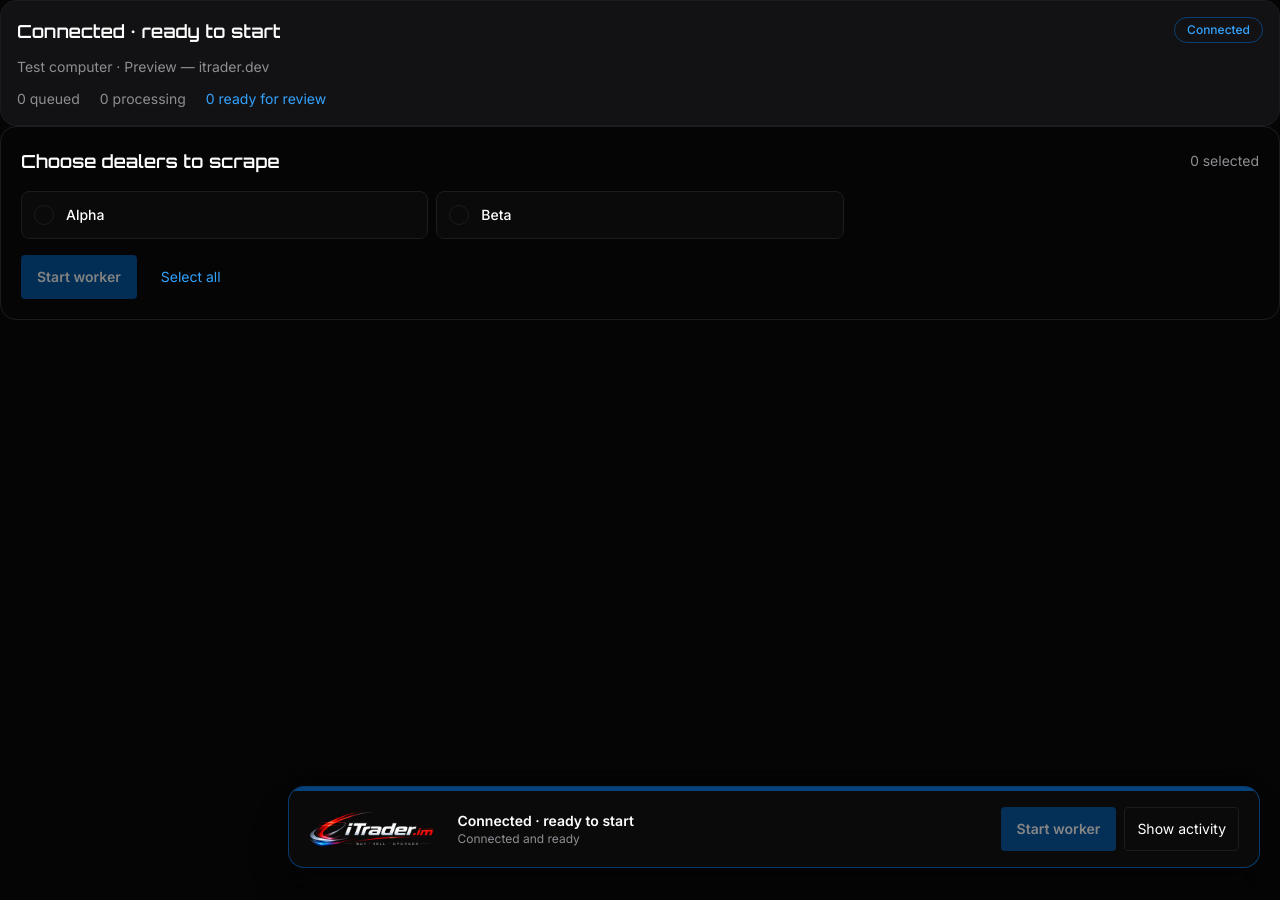
Test: keeps both start controls in sync and starts selected dealers from the dock
Expected: the button "Start worker" below "Alpha" is disabled, [21, 255, 137, 299]
Expected: the button "Start worker" in the row of "Connected and ready" is disabled, [1001, 807, 1116, 851]
Click the button "Select all" at (191, 277), box [149, 255, 233, 299]
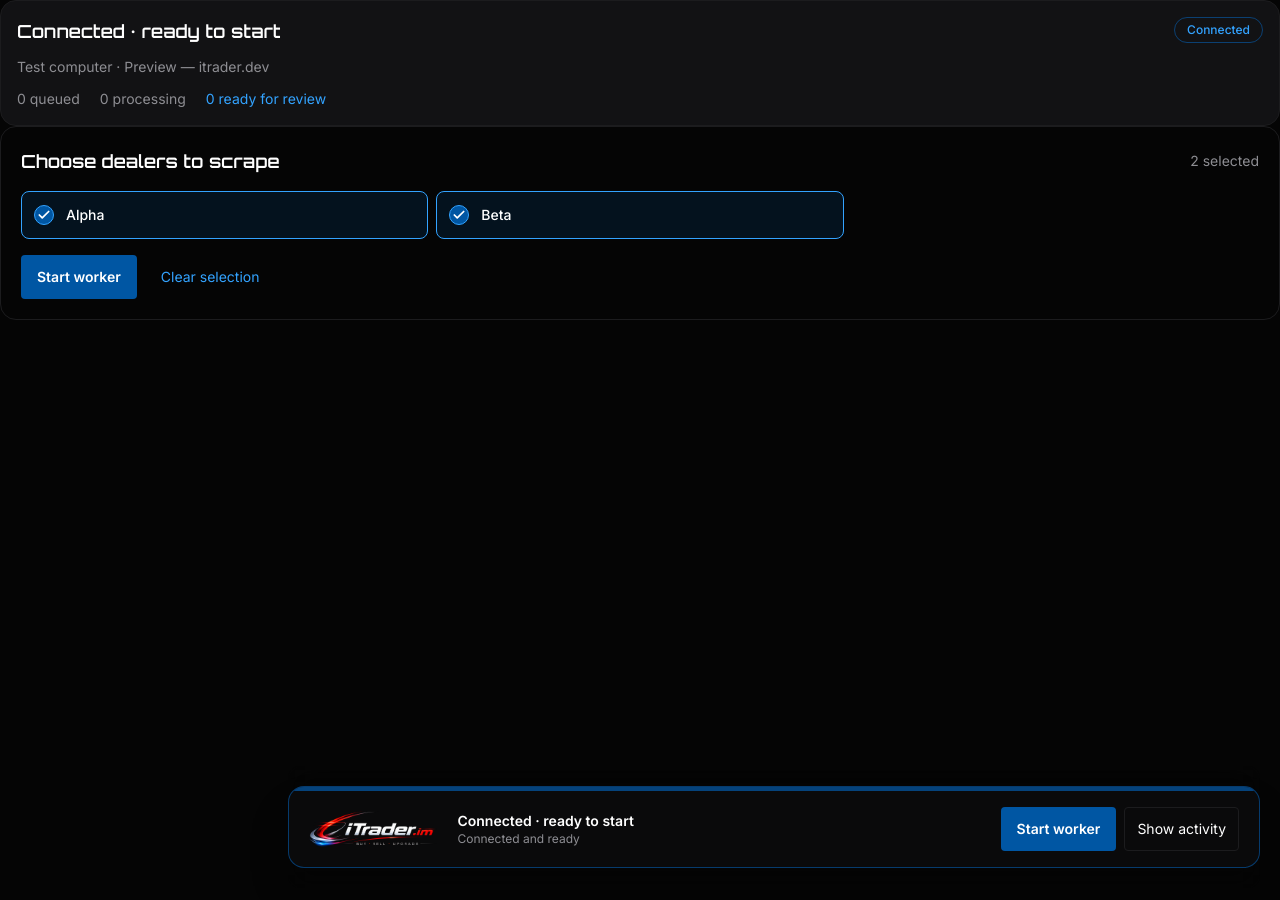
Now the button "Start worker" below "Alpha" is enabled, box [21, 255, 137, 299]
Now the button "Start worker" in the row of "Connected and ready" is enabled, box [1001, 807, 1116, 851]
Click the button "Clear selection" at (210, 277), box [149, 255, 272, 299]
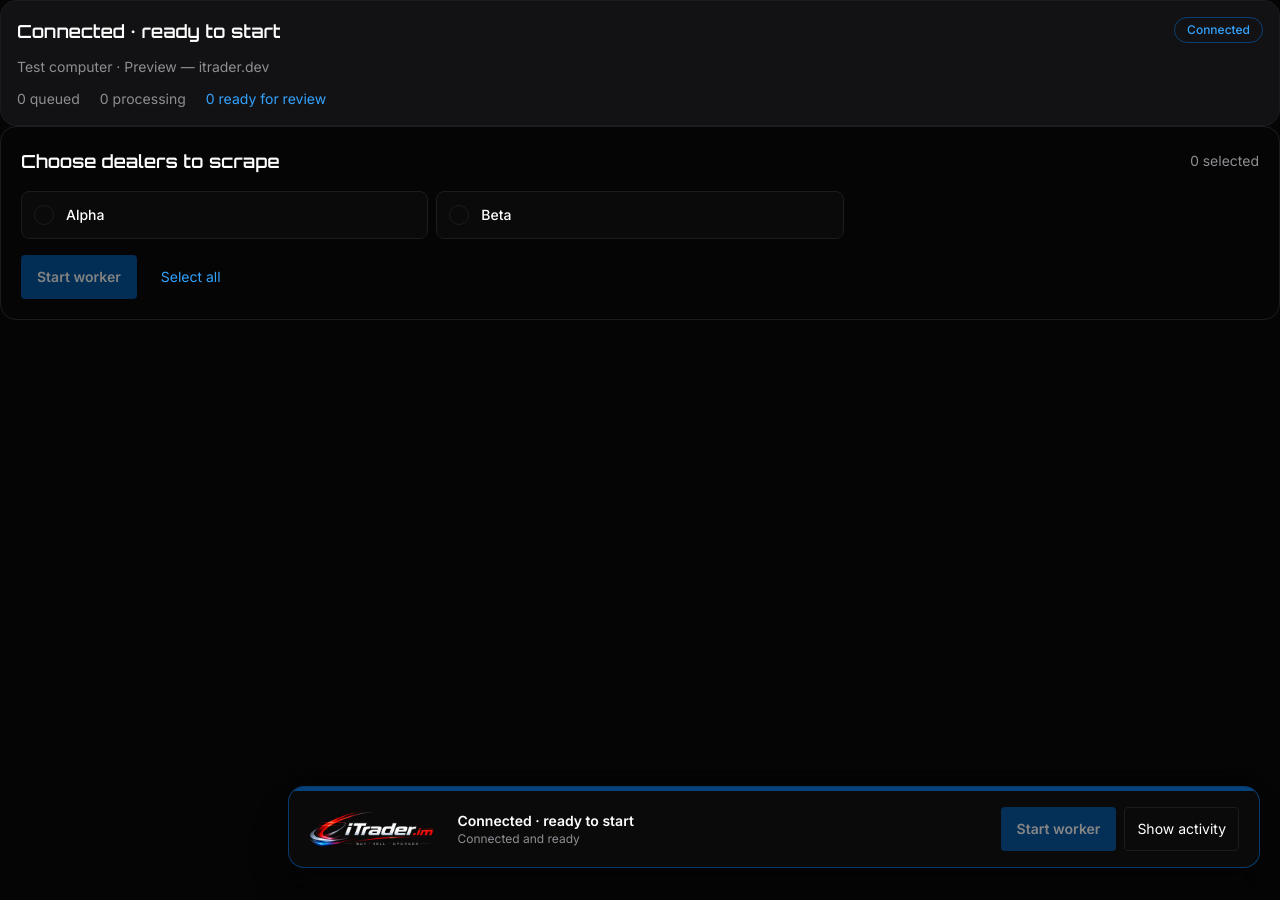
Now the button "Start worker" below "Alpha" is disabled, box [21, 255, 137, 299]
Now the button "Start worker" in the row of "Connected and ready" is disabled, box [1001, 807, 1116, 851]
Click the checkbox labelled "Beta" at (640, 215), box [436, 191, 844, 239]
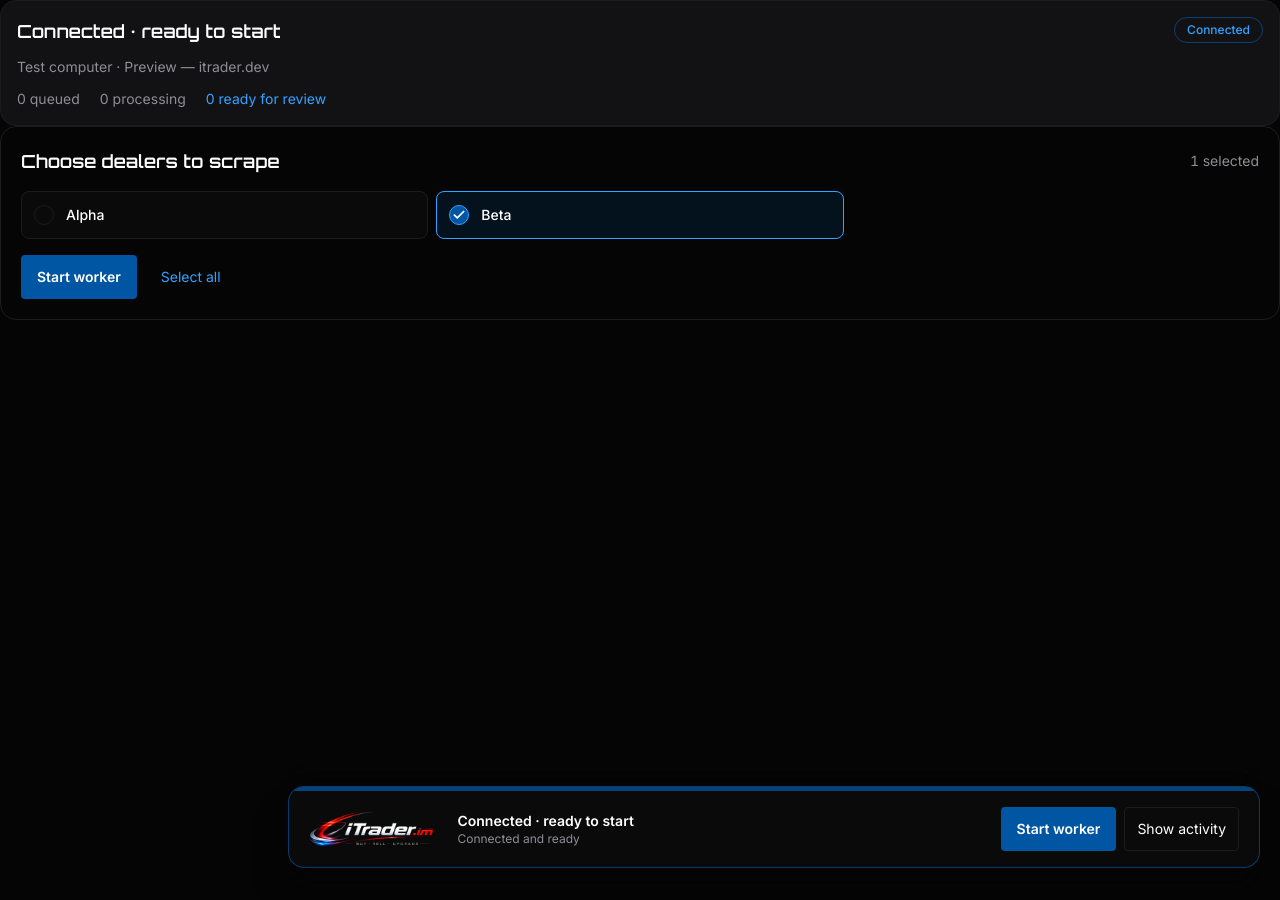
Click the button "Start worker" in the row of "Connected and ready" at (1058, 829), box [1001, 807, 1116, 851]
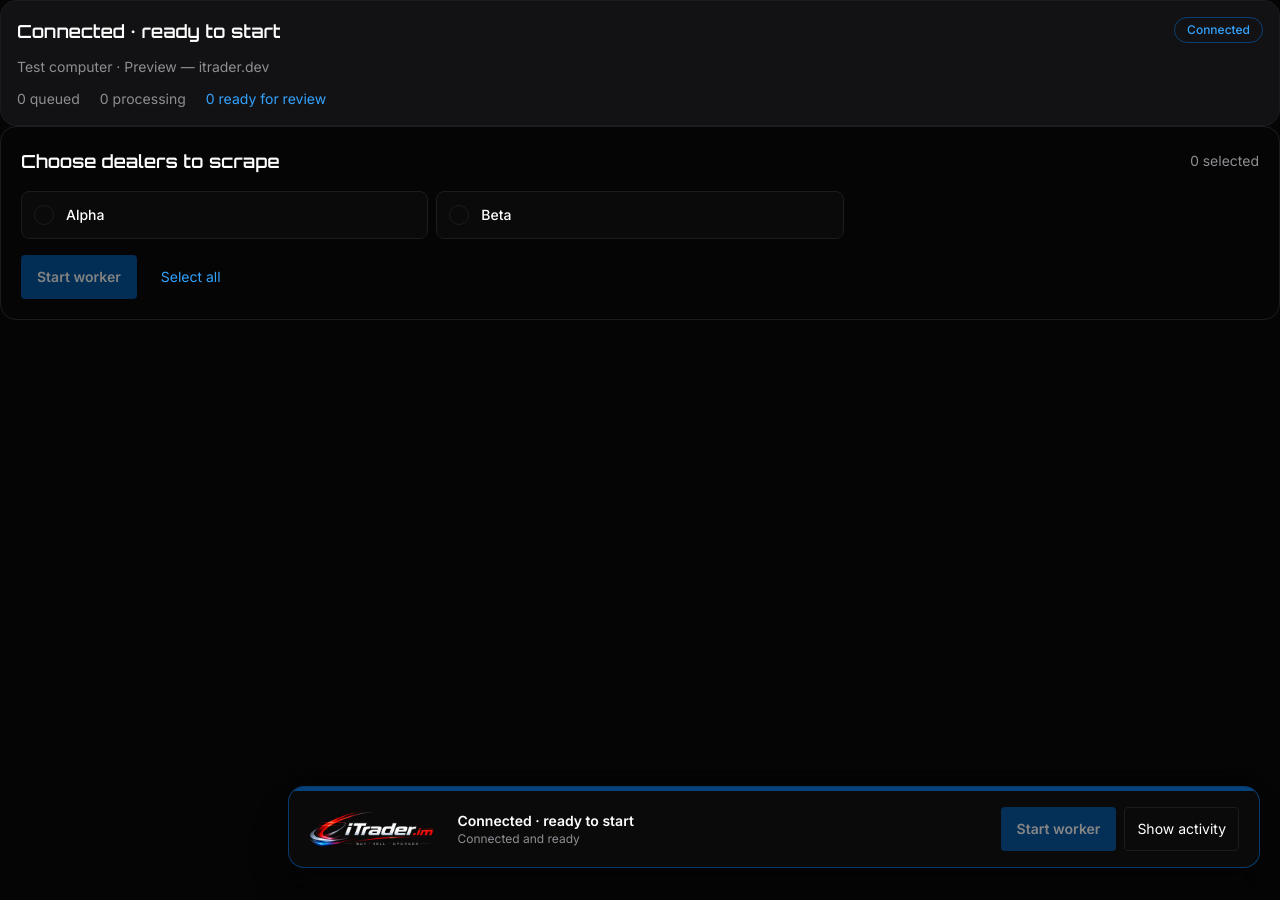
Now the button "Start worker" below "Alpha" is disabled, box [21, 255, 137, 299]
Now the button "Start worker" in the row of "Connected and ready" is disabled, box [1001, 807, 1116, 851]
